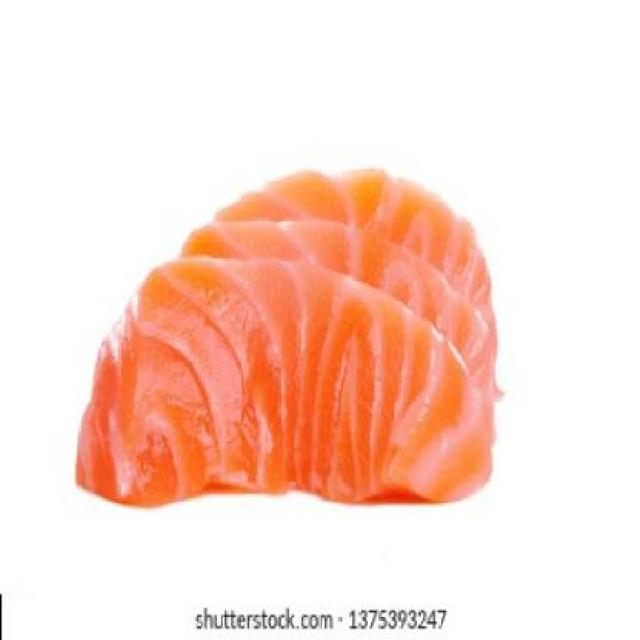salmon: (75, 244, 484, 524), (157, 222, 490, 462), (195, 165, 506, 407)
